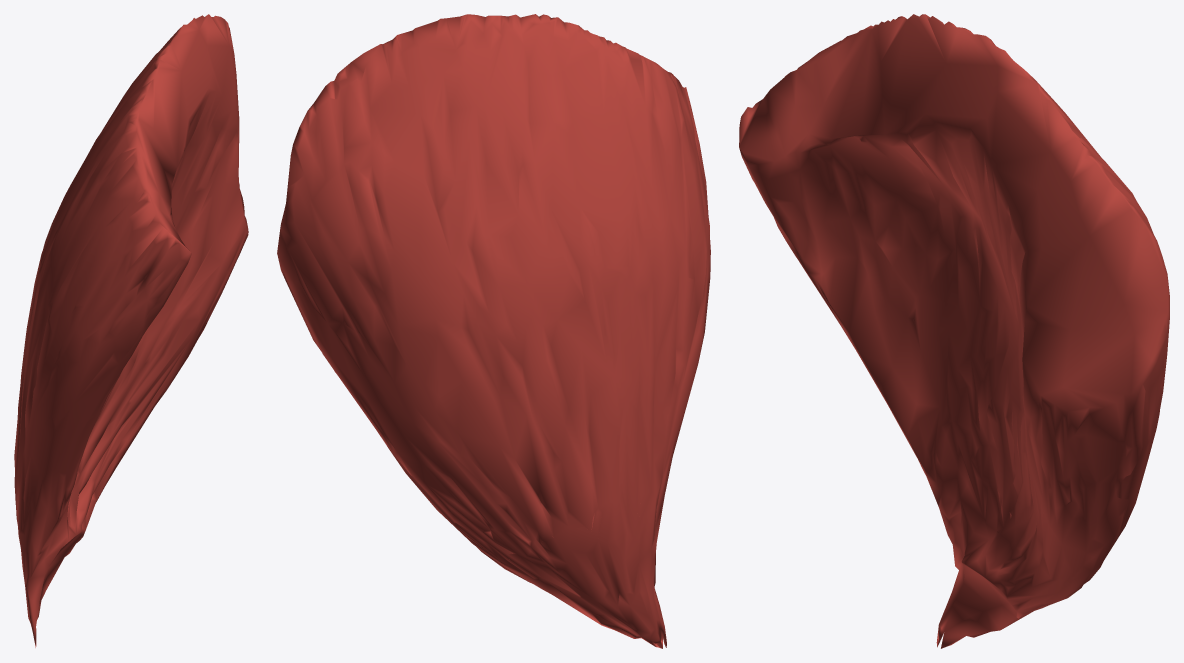
Rendered from musculos-gluteus-medius-muscle-r.glb.
3 renders of one model, left to right at view 1: azimuth 30°, elevation 25°; view 2: azimuth 150°, elevation 25°; view 3: azimuth 270°, elevation 25°, orthographic. The views are drawn at different scales.
Parts seen in each view (by area): view 1: Gluteus medius muscle.r; view 2: Gluteus medius muscle.r; view 3: Gluteus medius muscle.r.
Boxes of the visible parts, box(x1,y1,x2,y2) form: Gluteus medius muscle.r: box(14, 14, 248, 647); Gluteus medius muscle.r: box(277, 14, 710, 648); Gluteus medius muscle.r: box(739, 14, 1169, 648).
Bounding box in the file's own units: 0.0891 × 0.1674 × 0.0915.
